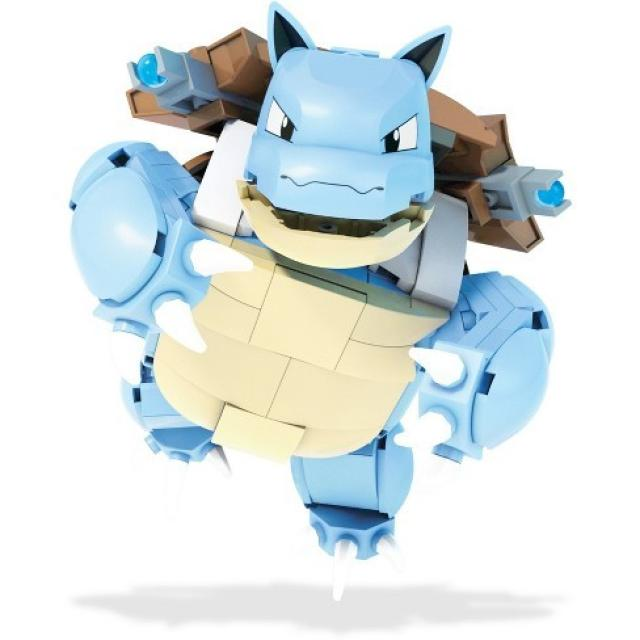Blastoise: (61, 16, 588, 570)
